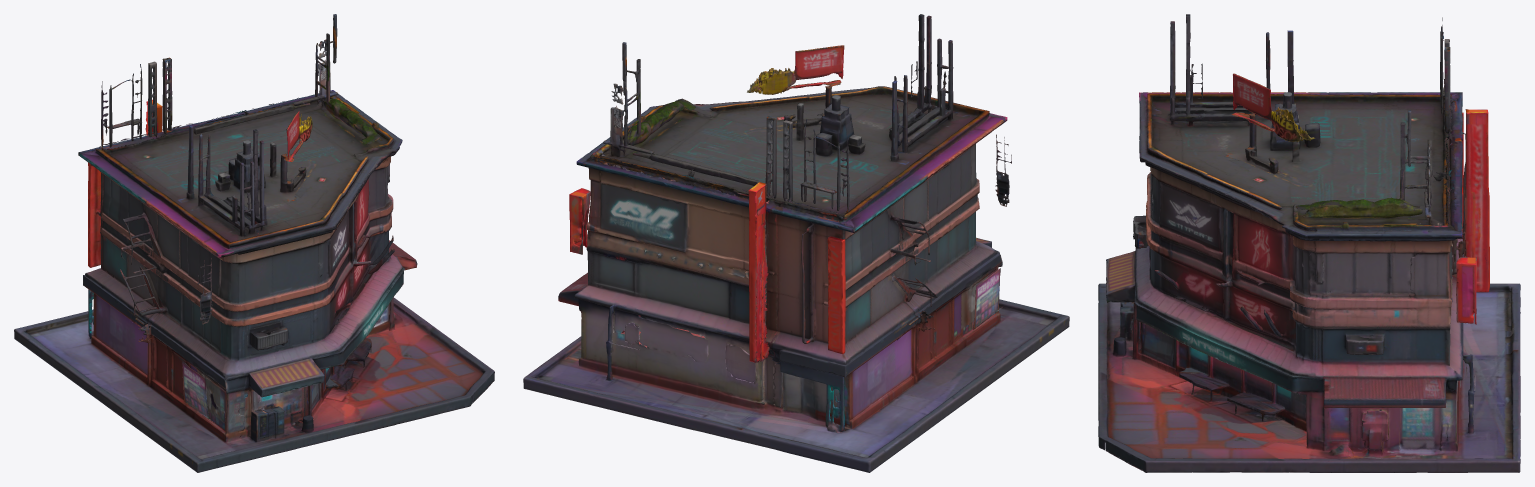
File: store_2.glb
The picture shows the model from 3 angles, left to right: view 1: azimuth 30°, elevation 25°; view 2: azimuth 150°, elevation 25°; view 3: azimuth 270°, elevation 25°; orthographic projection. The views are drawn at different scales.
Bounding box in the file's own units: 2 × 1.76 × 2.
1 material, 1 textured.
